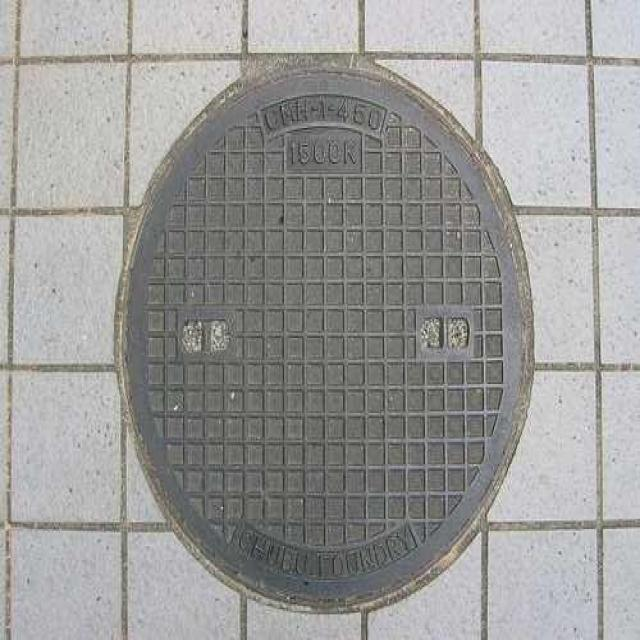manhole: (124, 58, 533, 611)
